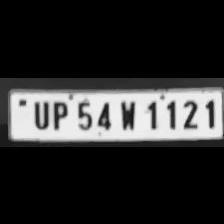1: (141, 97, 161, 130), (160, 96, 178, 130), (200, 96, 218, 128)
2: (178, 96, 200, 130)
4: (94, 97, 114, 129)
5: (72, 96, 94, 130)
P: (48, 98, 70, 130)
U: (28, 97, 50, 129)
W: (115, 96, 139, 130)
